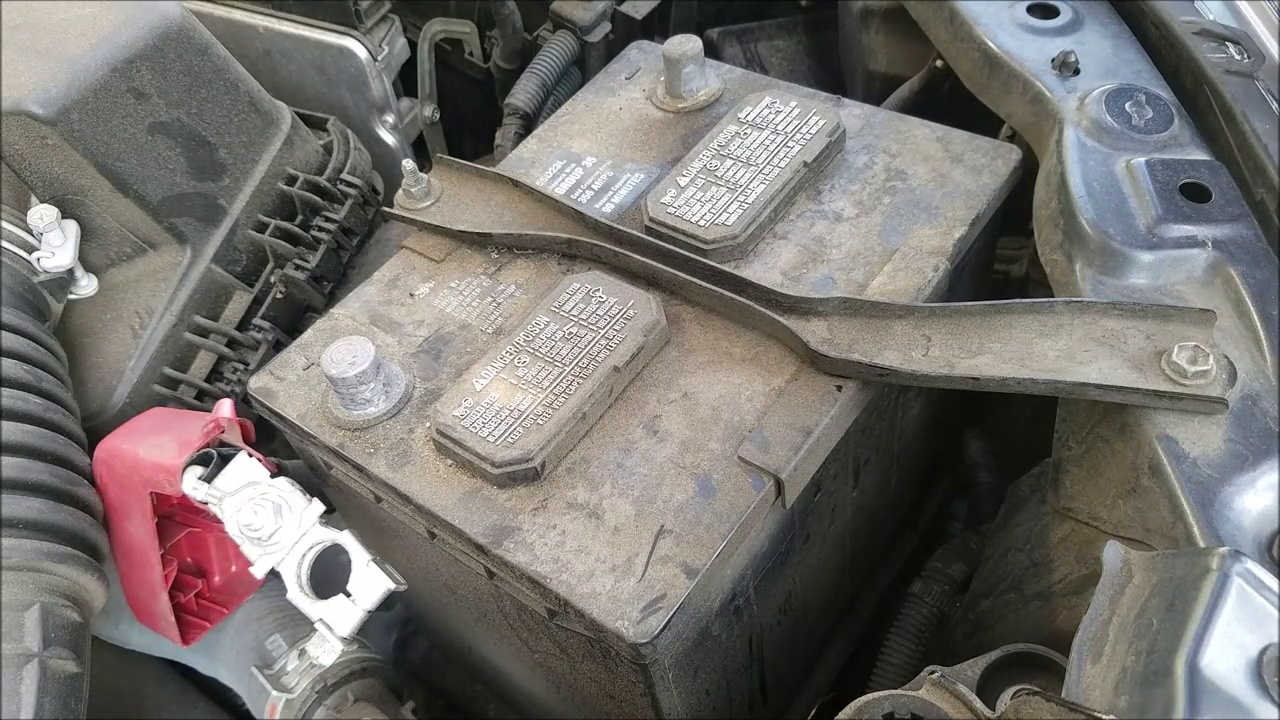battery: (253, 43, 1025, 635)
neg_disconnected: (609, 20, 756, 141)
pos_disconnected: (91, 308, 428, 650)
